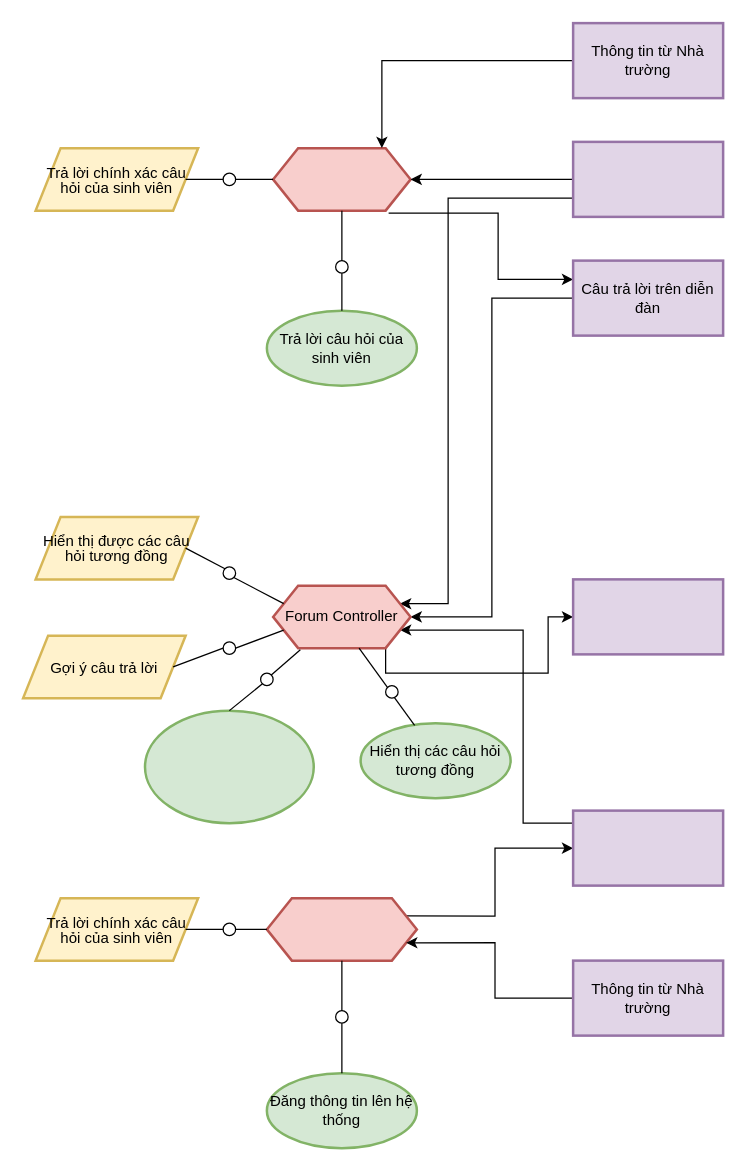
The diagram is 745 pixels wide and 1170 high, and some of its shapes have lost their labels. Here are the shapes that lost their labels. From the top down, the centre of each, then its label:
pixel 341 178: CVHT
pixel 647 179: Câu hỏi của sinh viên trên diễn đàn
pixel 647 616: Câu trả lời gợi ý
pixel 228 766: Gợi ý câu trả lời dựa trên câu trả lời có sẵn hoặc thông tin trên hệ thống
pixel 647 847: Thông tin về Nhà trường trên hệ thống
pixel 341 928: PCTSV, PĐT
